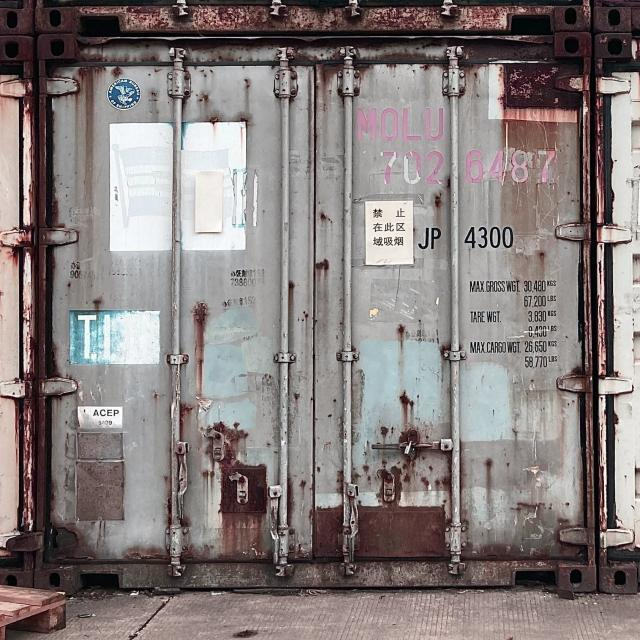ISO: (414, 226, 516, 250)
container_number: (342, 102, 562, 188)
